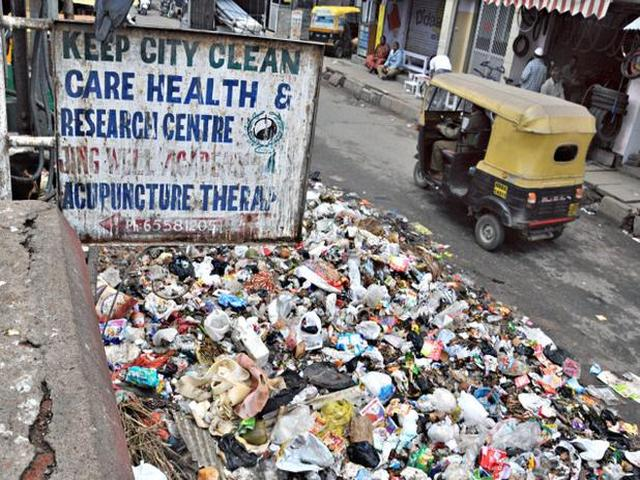garbage: (152, 269, 464, 468), (475, 367, 580, 477)
